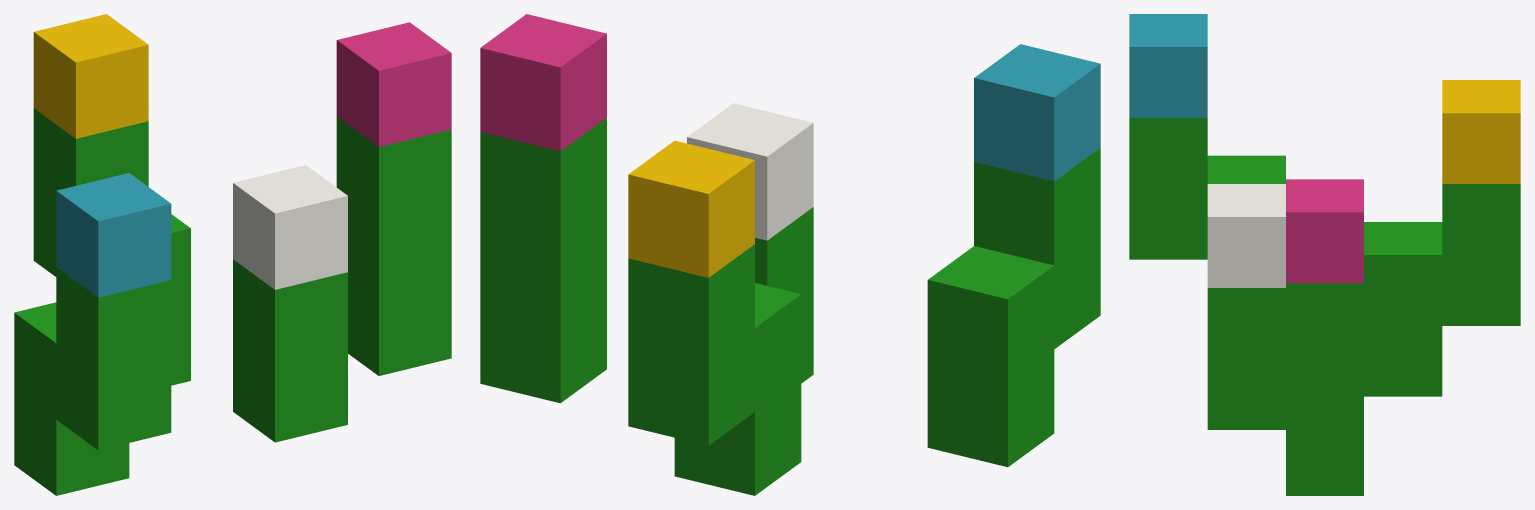
File: Flores playa 2.fbx
3 views of the same model, side by side, from view 1: azimuth 30°, elevation 25°; view 2: azimuth 150°, elevation 25°; view 3: azimuth 270°, elevation 25° (orthographic). The views are drawn at different scales.
Visible parts, largest first — view 1: FloresPlaya2; view 2: FloresPlaya2; view 3: FloresPlaya2.
Part boxes in pixels (x1,y1,x2,y2): FloresPlaya2: (14,14,451,495); FloresPlaya2: (480,14,1100,495); FloresPlaya2: (1129,14,1520,495).
Size of the model in its own units: 1.2 by 0.8 by 1.
Materials: 1 (1 with a texture image).
